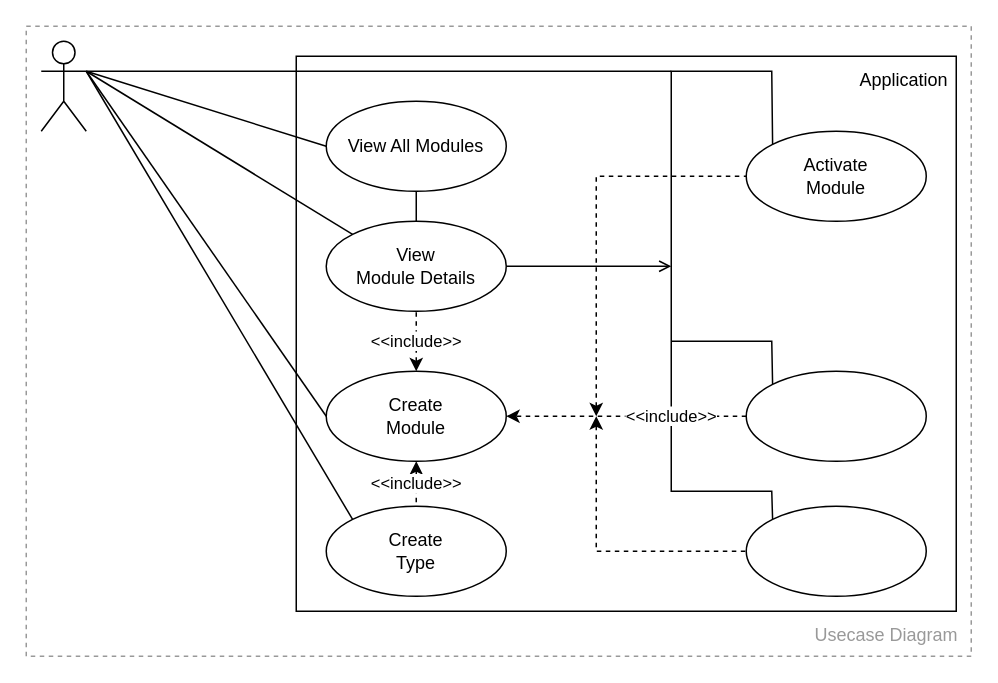
Some shapes in this 998 by 683 pixel diagram are drawn without their labels. Here are the shapes that lost their labels. From the top down, the box of each, then its label:
(40, 40, 86, 131): Actor
(745, 370, 926, 461): Deactivate Module
(745, 505, 926, 596): Delete Module
